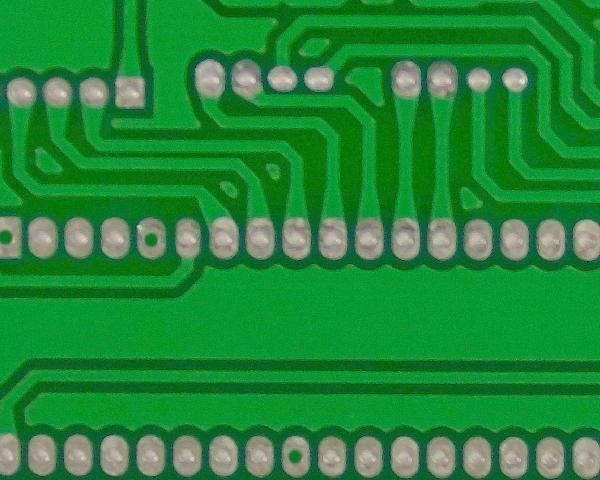missing hole: (134, 212, 171, 263), (279, 433, 316, 479), (1, 210, 24, 263)
